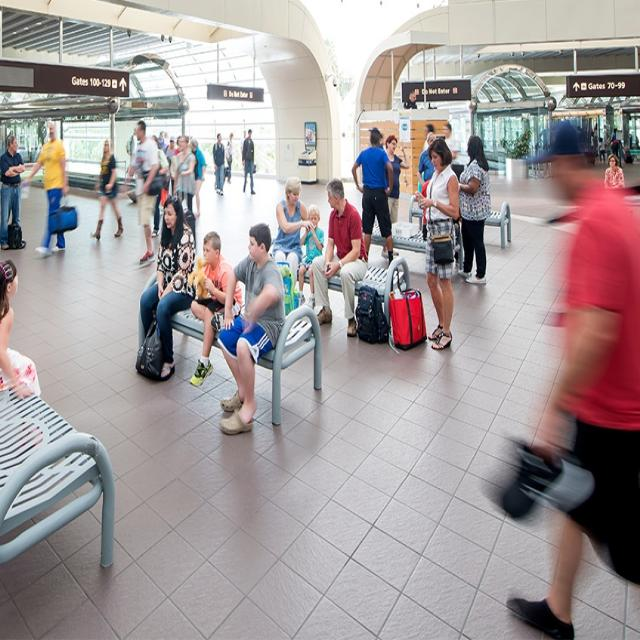body: (490, 117, 640, 640), (216, 220, 286, 437), (139, 195, 197, 383), (413, 136, 460, 352), (310, 176, 369, 338), (188, 229, 244, 388), (23, 119, 78, 257), (350, 125, 394, 268), (0, 257, 42, 402), (454, 134, 492, 286), (271, 175, 316, 291), (128, 119, 160, 268), (415, 154, 450, 271), (88, 136, 124, 241), (0, 132, 27, 250), (296, 203, 325, 307), (384, 133, 410, 226), (417, 131, 438, 244), (172, 133, 197, 213), (150, 133, 168, 239), (416, 123, 436, 210), (189, 136, 206, 220), (240, 127, 258, 195), (211, 131, 226, 196), (441, 121, 463, 165), (165, 136, 180, 197), (150, 133, 169, 180), (604, 153, 626, 190), (224, 131, 234, 184), (125, 126, 138, 163), (589, 120, 600, 158), (610, 126, 620, 160), (403, 87, 418, 109), (596, 134, 605, 161), (602, 123, 609, 153), (240, 129, 247, 153)
